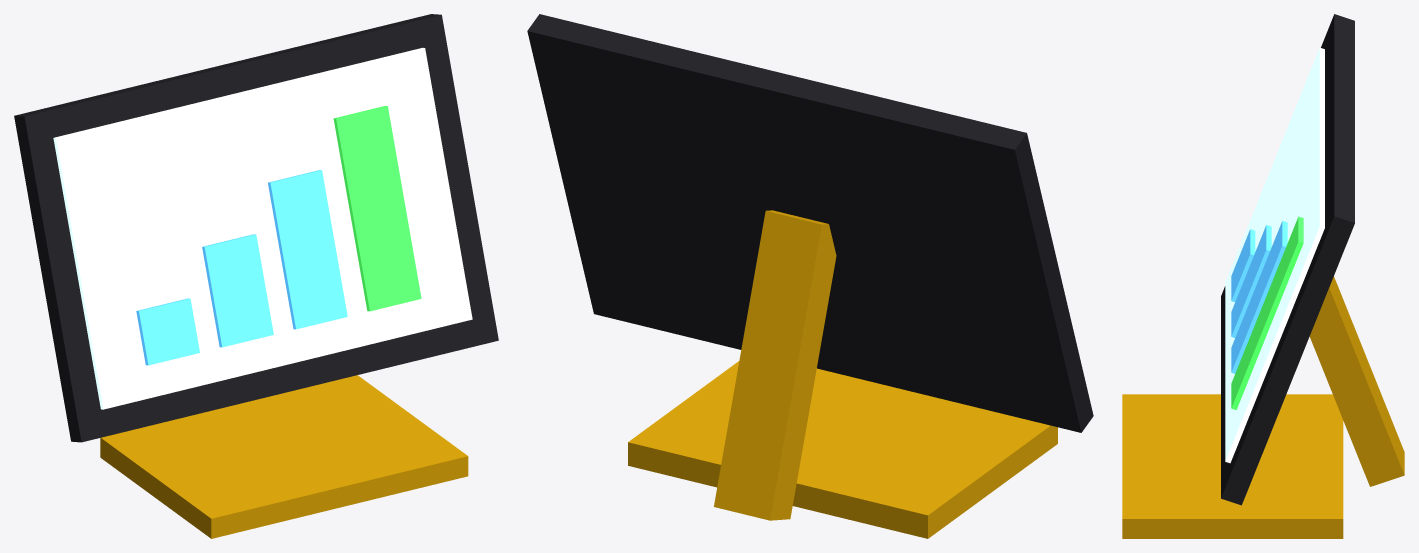
The model's file is station_intake_ausstattung_1_0.glb.
The picture shows the model from 3 angles, left to right: view 1: azimuth 30°, elevation 25°; view 2: azimuth 150°, elevation 25°; view 3: azimuth 270°, elevation 25°; orthographic projection. The views are drawn at different scales.
Parts seen in each view (by area): view 1: station_intake_ausstattung_1_0; view 2: station_intake_ausstattung_1_0; view 3: station_intake_ausstattung_1_0.
Part boxes in pixels (x1,y1,x2,y2): station_intake_ausstattung_1_0: (14, 14, 498, 538); station_intake_ausstattung_1_0: (527, 14, 1093, 538); station_intake_ausstattung_1_0: (1122, 14, 1404, 538).
Size of the model in its own units: 0.26 by 0.2166 by 0.1533.
